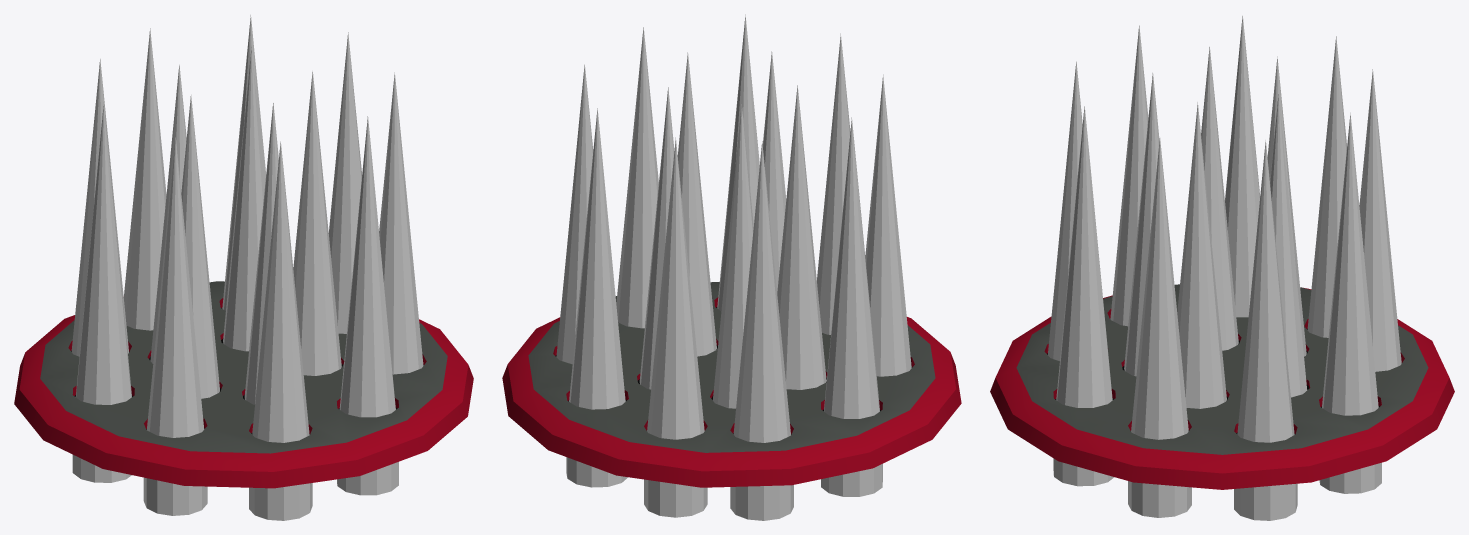
Rendered from Spikes.fbx.
The picture shows the model from 3 angles, left to right: view 1: azimuth 30°, elevation 25°; view 2: azimuth 150°, elevation 25°; view 3: azimuth 270°, elevation 25°; orthographic projection.
Visible parts, largest first — view 1: Spikes, Ground; view 2: Spikes, Ground; view 3: Spikes, Ground.
Boxes of the visible parts, box(x1,y1,x2,y2) form: Spikes: box(71, 15, 423, 520); Ground: box(14, 281, 473, 488); Spikes: box(556, 14, 911, 520); Ground: box(502, 282, 961, 487); Spikes: box(1047, 15, 1401, 520); Ground: box(990, 284, 1454, 489).
Bounding box in the file's own units: 242 × 214 × 242.
